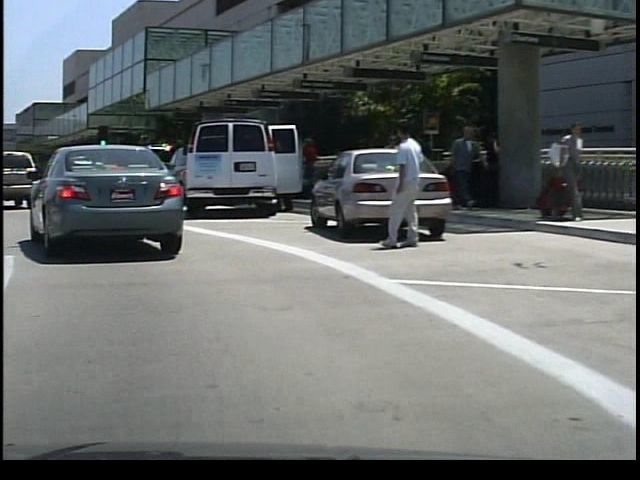person: (376, 116, 424, 250), (543, 116, 583, 223), (444, 122, 482, 211), (296, 133, 318, 199)
